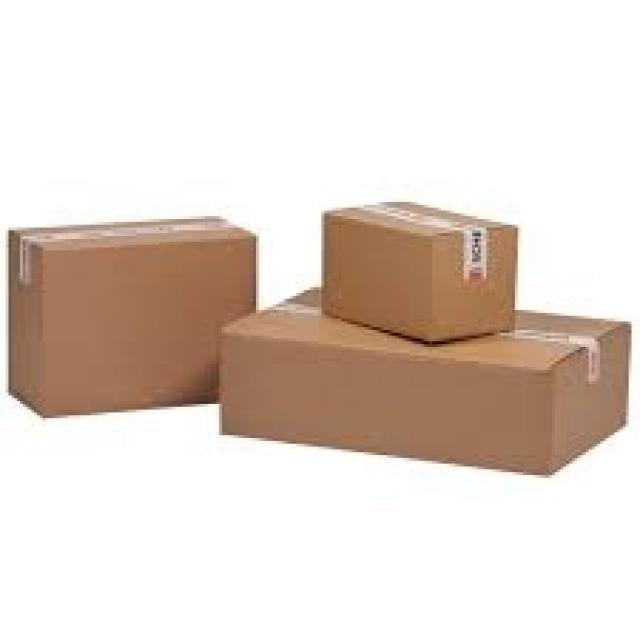cardboard paper: (219, 298, 629, 472), (8, 216, 254, 414), (321, 201, 516, 340)
